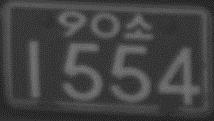0: (90, 11, 120, 40)
1: (19, 39, 52, 97)
4: (157, 46, 201, 106)
5: (61, 42, 104, 102), (109, 43, 152, 103)
9: (57, 9, 88, 37)
소: (122, 11, 153, 41)
